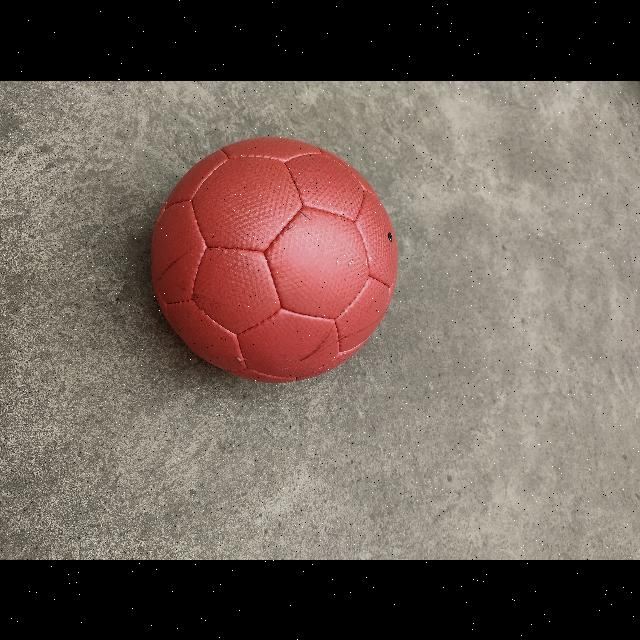R: (152, 136, 398, 384)
